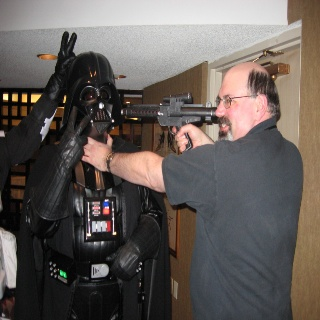rifle: (120, 92, 221, 152)
